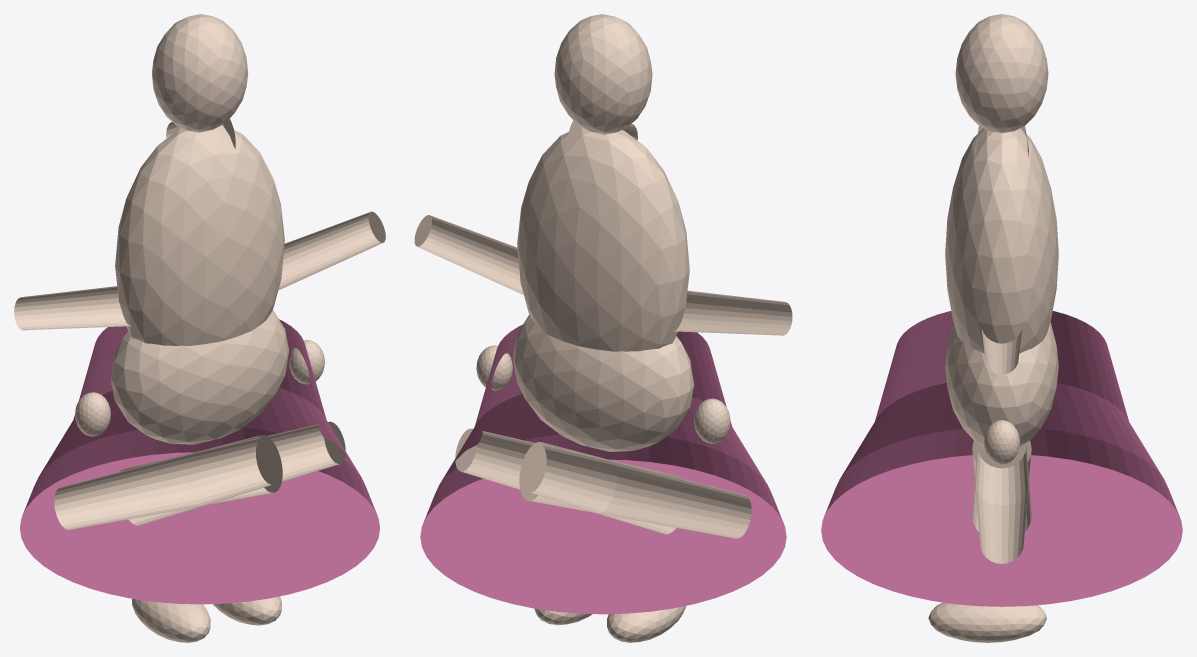
Rendered from femenino-falda.glb.
The picture shows the model from 3 angles, left to right: view 1: azimuth 30°, elevation 25°; view 2: azimuth 150°, elevation 25°; view 3: azimuth 270°, elevation 25°; orthographic projection.
Visible parts, largest first — view 1: Prenda, Avatar0, Avatar1, Avatar3, Avatar4, Avatar8, Avatar10, Avatar6, Avatar5, Avatar9, Avatar7, Avatar11; view 2: Prenda, Avatar0, Avatar1, Avatar3, Avatar4, Avatar8, Avatar10, Avatar6, Avatar5, Avatar7, Avatar11, Avatar9; view 3: Prenda, Avatar0, Avatar3, Avatar1, Avatar9, Avatar8, Avatar4, Avatar11, Avatar10.
Boxes of the visible parts, x1=… form: Prenda: x1=20, y1=319, x2=379, y2=604; Avatar0: x1=115, y1=125, x2=284, y2=345; Avatar1: x1=110, y1=310, x2=289, y2=444; Avatar3: x1=151, y1=14, x2=248, y2=132; Avatar4: x1=54, y1=435, x2=282, y2=529; Avatar8: x1=120, y1=421, x2=345, y2=525; Avatar10: x1=278, y1=211, x2=385, y2=290; Avatar6: x1=14, y1=286, x2=131, y2=330; Avatar5: x1=132, y1=599, x2=210, y2=642; Avatar9: x1=212, y1=596, x2=281, y2=625; Avatar7: x1=75, y1=392, x2=110, y2=436; Avatar11: x1=289, y1=340, x2=324, y2=384; Prenda: x1=420, y1=324, x2=786, y2=614; Avatar0: x1=517, y1=127, x2=689, y2=351; Avatar1: x1=512, y1=314, x2=694, y2=451; Avatar3: x1=554, y1=14, x2=652, y2=134; Avatar4: x1=519, y1=442, x2=751, y2=538; Avatar8: x1=455, y1=428, x2=683, y2=534; Avatar10: x1=414, y1=215, x2=523, y2=294; Avatar6: x1=674, y1=290, x2=792, y2=335; Avatar5: x1=607, y1=606, x2=685, y2=642; Avatar7: x1=694, y1=398, x2=730, y2=443; Avatar11: x1=476, y1=345, x2=512, y2=390; Avatar9: x1=534, y1=608, x2=592, y2=625; Prenda: x1=821, y1=311, x2=1182, y2=606; Avatar0: x1=945, y1=128, x2=1058, y2=353; Avatar3: x1=955, y1=14, x2=1048, y2=133; Avatar1: x1=945, y1=322, x2=1058, y2=446; Avatar9: x1=928, y1=602, x2=1046, y2=642; Avatar8: x1=972, y1=440, x2=1031, y2=563; Avatar4: x1=972, y1=446, x2=1031, y2=531; Avatar11: x1=984, y1=420, x2=1019, y2=464; Avatar10: x1=981, y1=327, x2=1022, y2=374.
Size of the model in its own units: 1.61 by 2.58 by 1.4.
